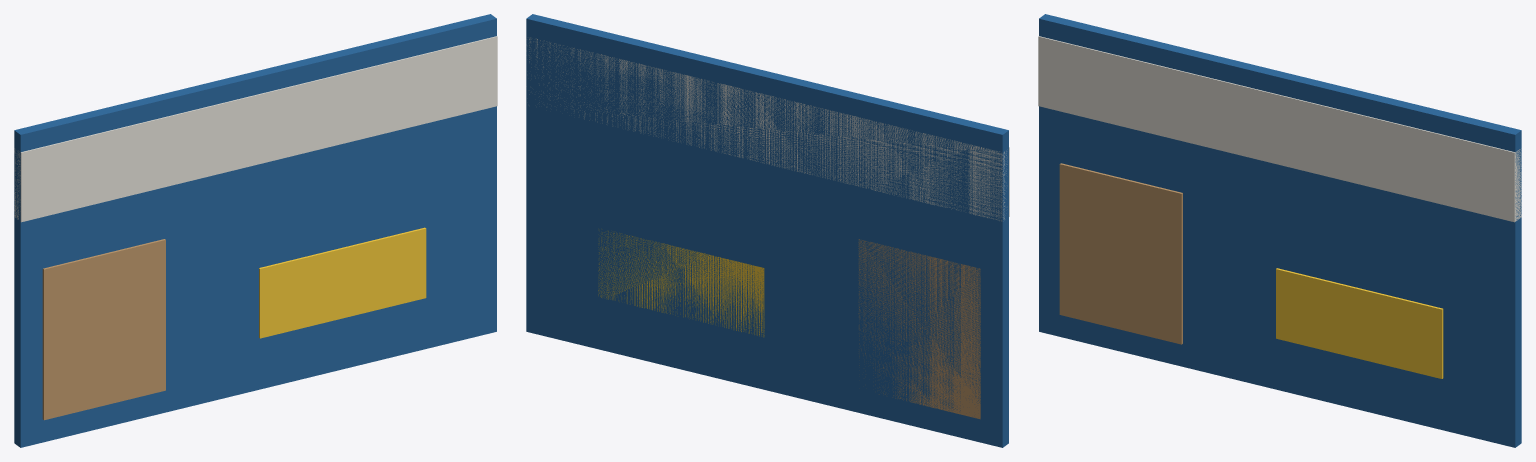
Rendered from bus-pass.glb.
The picture shows the model from 3 angles, left to right: view 1: azimuth 30°, elevation 25°; view 2: azimuth 150°, elevation 25°; view 3: azimuth 330°, elevation 25°; orthographic projection.
Parts seen in each view (by area): view 1: bus_pass; view 2: bus_pass; view 3: bus_pass.
Boxes of the visible parts, box(x1,y1,x2,y2) form: bus_pass: box(14, 14, 497, 447); bus_pass: box(526, 14, 1009, 447); bus_pass: box(1038, 14, 1521, 447).
Bounding box in the file's own units: 0.086 × 0.054 × 0.0024.
